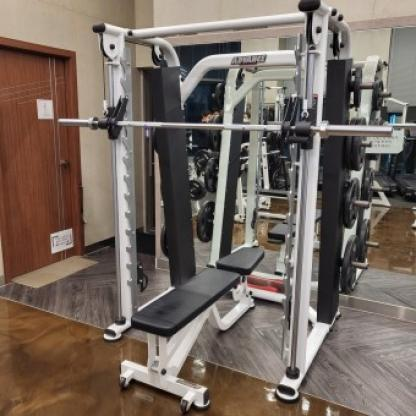smith machine: (92, 0, 354, 407)
